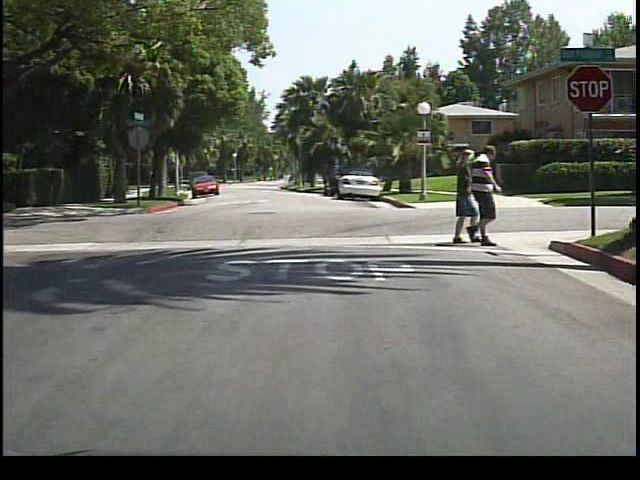person: (466, 145, 503, 248), (444, 149, 477, 245)
